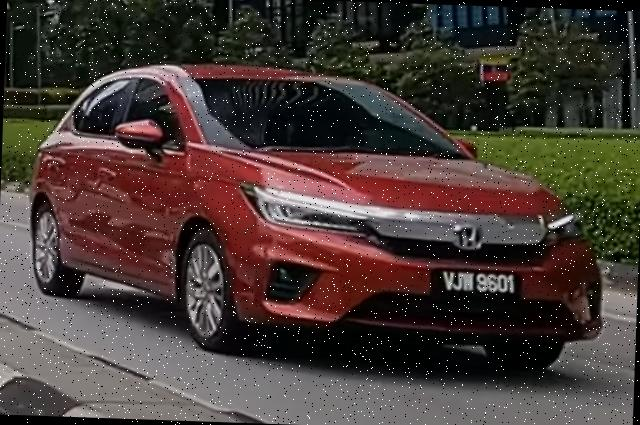License_Plate: (432, 265, 524, 304)
car: (24, 57, 614, 374)
